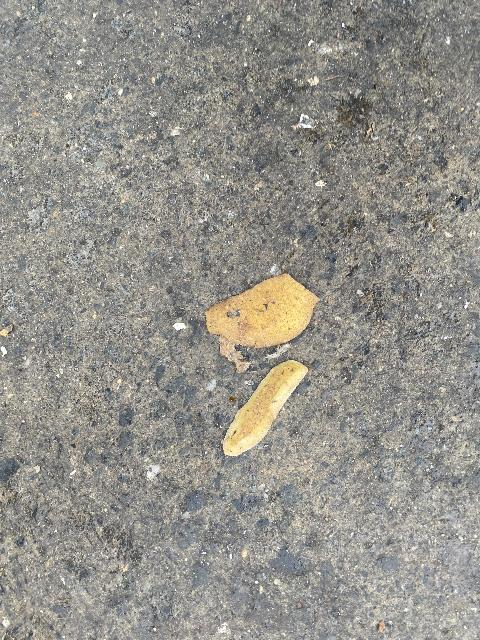Organik: (206, 357, 327, 459), (202, 273, 332, 365)
